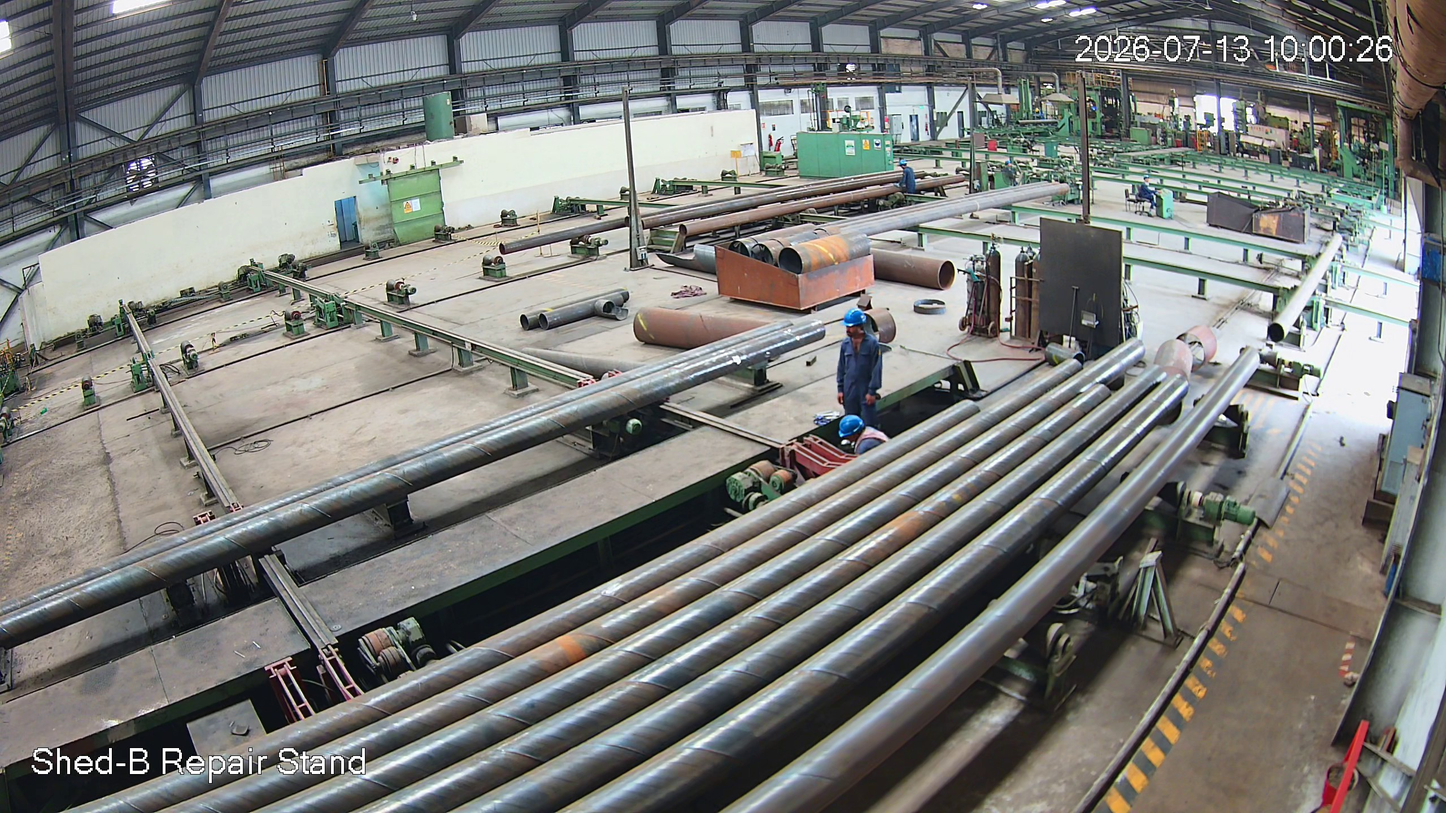Helmet: (832, 412, 872, 442), (840, 307, 873, 341)
Person: (837, 310, 885, 421), (827, 414, 897, 456)
